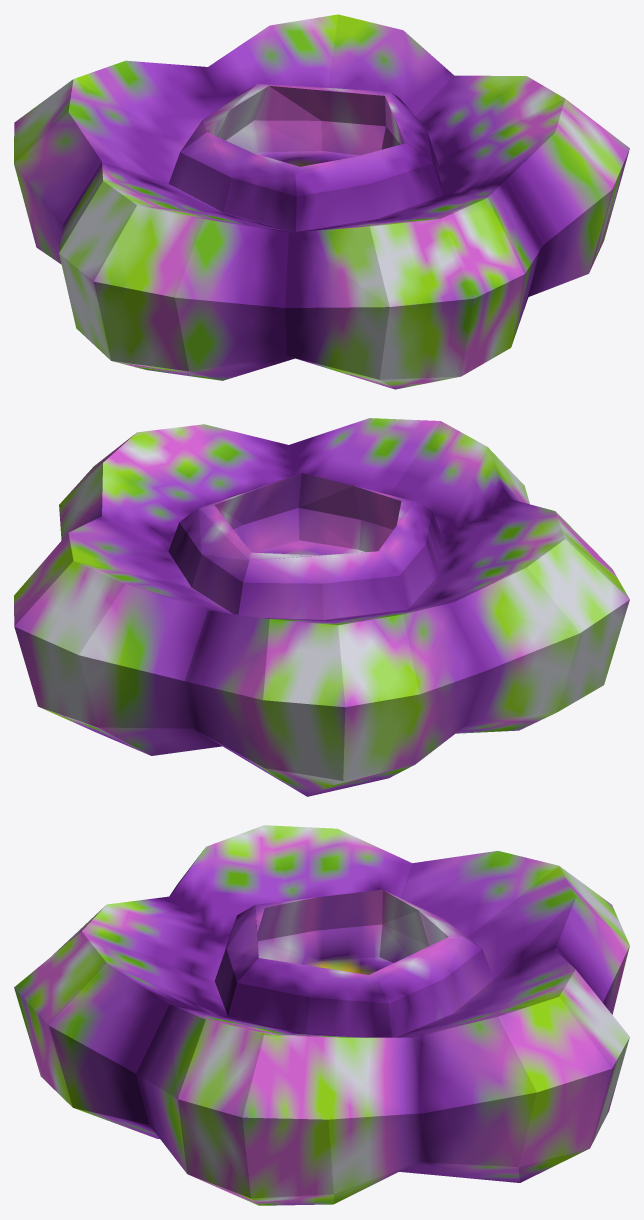
The model's file is Poly_Mushroom_01.obj.
3 views of the same model, one above another, from view 1: azimuth 30°, elevation 25°; view 2: azimuth 150°, elevation 25°; view 3: azimuth 270°, elevation 25° (orthographic).
Parts seen in each view (by area): view 1: Cylinder; view 2: Cylinder; view 3: Cylinder.
Part boxes in pixels (bbox=[...]): Cylinder: bbox=[14, 14, 629, 389]; Cylinder: bbox=[14, 418, 629, 796]; Cylinder: bbox=[14, 825, 629, 1205].
Bounding box in the file's own units: 0.9243 × 0.3225 × 0.9058.
Materials: 1 (1 with a texture image).
